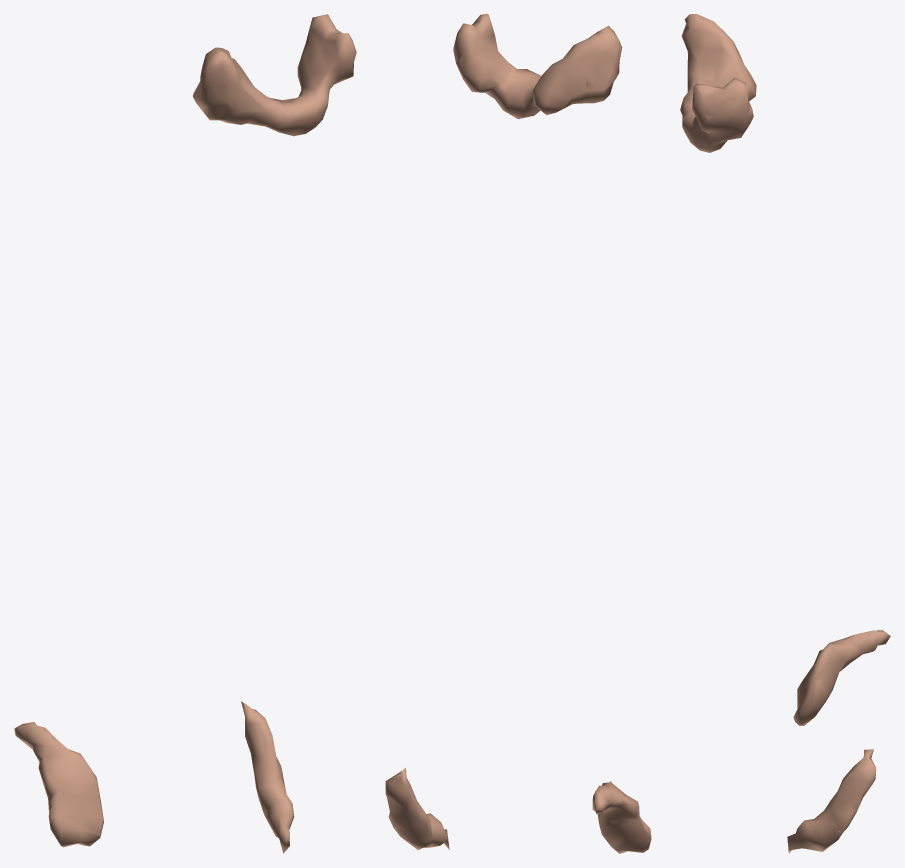
File: tsd_s0196_older_adult_female.endocrine.LOD2.glb
3 views of the same model, side by side, from view 1: azimuth 30°, elevation 25°; view 2: azimuth 150°, elevation 25°; view 3: azimuth 270°, elevation 25° (orthographic). The views are drawn at different scales.
Visible parts, largest first — view 1: TSD_S0196.OLDER_ADULT.FEMALE.ENDOCRINE.THYROID_GLAND, TSD_S0196.OLDER_ADULT.FEMALE.ENDOCRINE.ADRENAL_GLAND.R, TSD_S0196.OLDER_ADULT.FEMALE.ENDOCRINE.ADRENAL_GLAND.L; view 2: TSD_S0196.OLDER_ADULT.FEMALE.ENDOCRINE.THYROID_GLAND, TSD_S0196.OLDER_ADULT.FEMALE.ENDOCRINE.ADRENAL_GLAND.R, TSD_S0196.OLDER_ADULT.FEMALE.ENDOCRINE.ADRENAL_GLAND.L; view 3: TSD_S0196.OLDER_ADULT.FEMALE.ENDOCRINE.THYROID_GLAND, TSD_S0196.OLDER_ADULT.FEMALE.ENDOCRINE.ADRENAL_GLAND.L, TSD_S0196.OLDER_ADULT.FEMALE.ENDOCRINE.ADRENAL_GLAND.R.
Part boxes in pixels (<box>): TSD_S0196.OLDER_ADULT.FEMALE.ENDOCRINE.THYROID_GLAND: <box>193,14,356,136</box>; TSD_S0196.OLDER_ADULT.FEMALE.ENDOCRINE.ADRENAL_GLAND.R: <box>14,722,103,847</box>; TSD_S0196.OLDER_ADULT.FEMALE.ENDOCRINE.ADRENAL_GLAND.L: <box>241,701,294,853</box>; TSD_S0196.OLDER_ADULT.FEMALE.ENDOCRINE.THYROID_GLAND: <box>453,14,622,119</box>; TSD_S0196.OLDER_ADULT.FEMALE.ENDOCRINE.ADRENAL_GLAND.R: <box>592,781,651,853</box>; TSD_S0196.OLDER_ADULT.FEMALE.ENDOCRINE.ADRENAL_GLAND.L: <box>385,768,449,849</box>; TSD_S0196.OLDER_ADULT.FEMALE.ENDOCRINE.THYROID_GLAND: <box>680,14,756,152</box>; TSD_S0196.OLDER_ADULT.FEMALE.ENDOCRINE.ADRENAL_GLAND.L: <box>787,749,876,853</box>; TSD_S0196.OLDER_ADULT.FEMALE.ENDOCRINE.ADRENAL_GLAND.R: <box>793,630,890,725</box>.
Bounding box in the file's own units: 0.0811 × 0.2624 × 0.0635.
